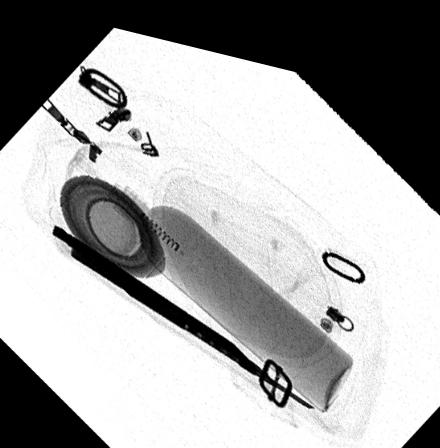Knife: (51, 222, 316, 395)
